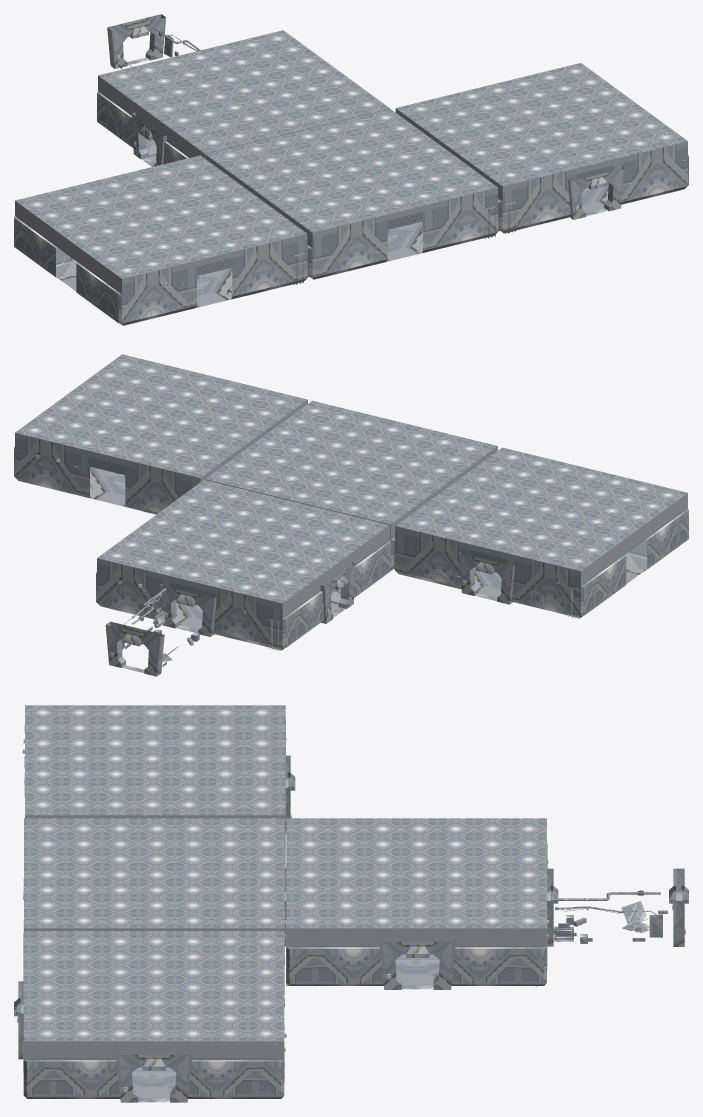
Rendered from Combined_Mesh_root_scene__10_7ad9d44b__ZombiesII_laboratory_03_d_5a0f8016_c1f257_part002.obj.
3 renders of one model, top to bottom at view 1: azimuth 30°, elevation 25°; view 2: azimuth 150°, elevation 25°; view 3: azimuth 270°, elevation 25°, orthographic. The views are drawn at different scales.
Bounding box in the file's own units: 124 × 10.21 × 104.
261 materials, 261 textured.
